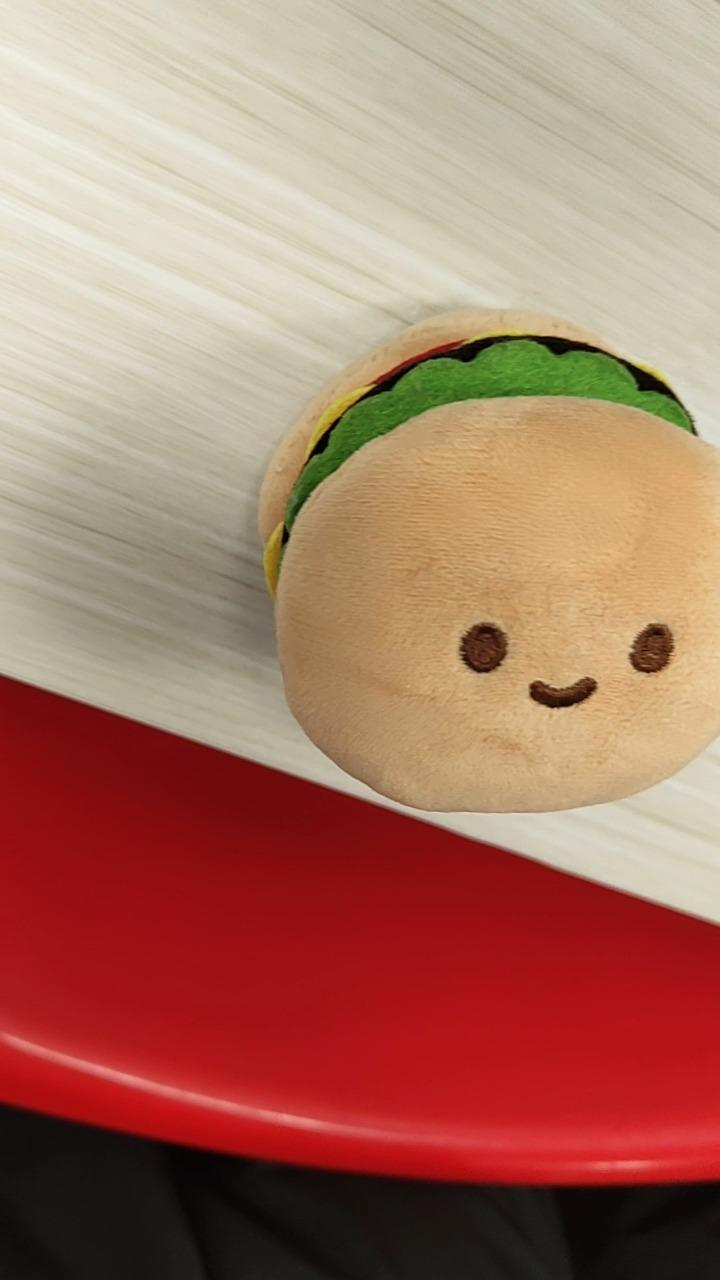hamburger: (256, 304, 718, 815)
